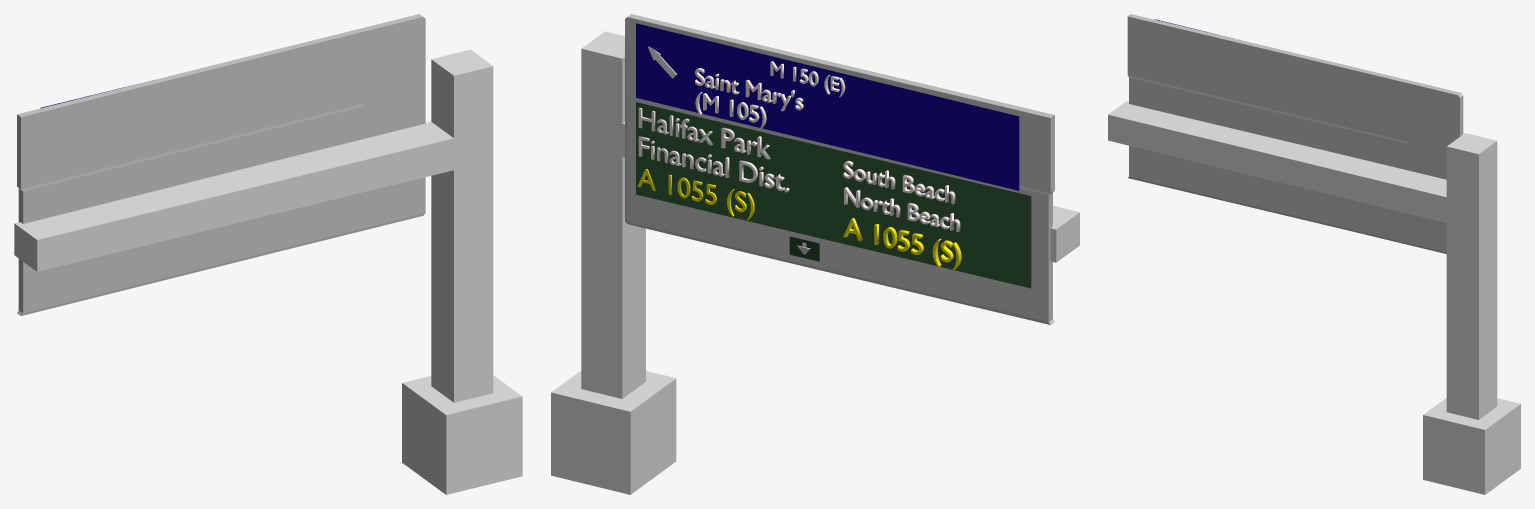
The model's file is A1055SignSouthbound.fbx.
3 views of the same model, side by side, from view 1: azimuth 30°, elevation 25°; view 2: azimuth 150°, elevation 25°; view 3: azimuth 330°, elevation 25° (orthographic). The views are drawn at different scales.
Parts seen in each view (by area): view 1: Cube.008, Cube; view 2: Cube, Plane.001, Plane.003, Cube.008, Text, Text.006, Text.002, Text.004, Text.003, Text.001, Text.005; view 3: Cube.008, Cube.
Boxes of the visible parts, <box> form: Cube.008: <box>17,14,425,315</box>; Cube: <box>14,49,522,494</box>; Cube: <box>551,31,1079,494</box>; Plane.001: <box>636,102,1031,288</box>; Plane.003: <box>636,23,1019,190</box>; Cube.008: <box>625,14,1054,324</box>; Text: <box>638,107,789,192</box>; Text.006: <box>695,68,803,129</box>; Text.002: <box>843,218,961,270</box>; Text.004: <box>844,187,960,232</box>; Text.003: <box>843,160,955,204</box>; Text.001: <box>637,169,754,220</box>; Text.005: <box>770,61,845,97</box>; Cube.008: <box>1127,14,1463,253</box>; Cube: <box>1108,101,1520,494</box>.
Bounding box in the file's own units: 12.44 × 11.31 × 2.
